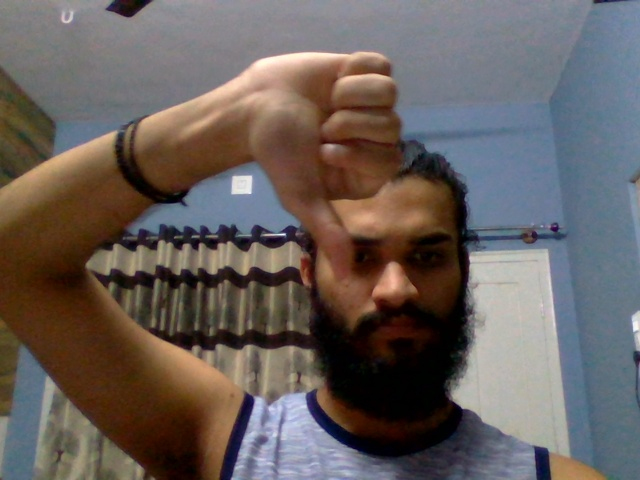ThumbsDown: (246, 51, 405, 262)
